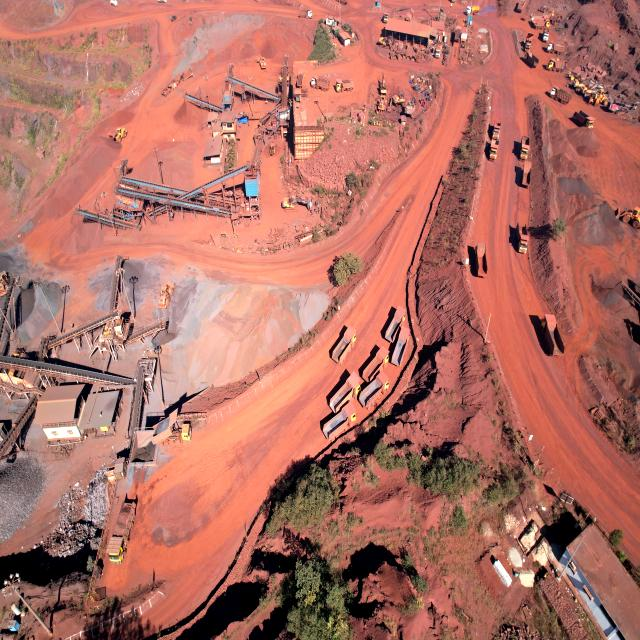Blast rig: (608, 100, 636, 116)
Dumper truck: (106, 502, 136, 564), (153, 418, 191, 442), (332, 328, 358, 361), (327, 408, 356, 436), (366, 349, 389, 382), (389, 308, 406, 340), (542, 313, 558, 345), (338, 377, 363, 397), (364, 374, 388, 394), (472, 246, 487, 276), (491, 119, 501, 154), (551, 87, 570, 104), (574, 111, 594, 127), (518, 224, 528, 253), (335, 78, 352, 92), (312, 75, 329, 89), (531, 16, 549, 29), (518, 142, 530, 160), (488, 140, 499, 158), (525, 52, 537, 68), (523, 161, 531, 185), (547, 43, 565, 53), (523, 33, 532, 52), (548, 60, 565, 70), (297, 69, 304, 87), (299, 9, 313, 17), (516, 0, 524, 12), (543, 30, 549, 42), (384, 12, 389, 22), (352, 334, 358, 342)
Excavator: (282, 197, 309, 210), (379, 36, 396, 48), (390, 95, 405, 106)
car: (170, 15, 177, 21)
